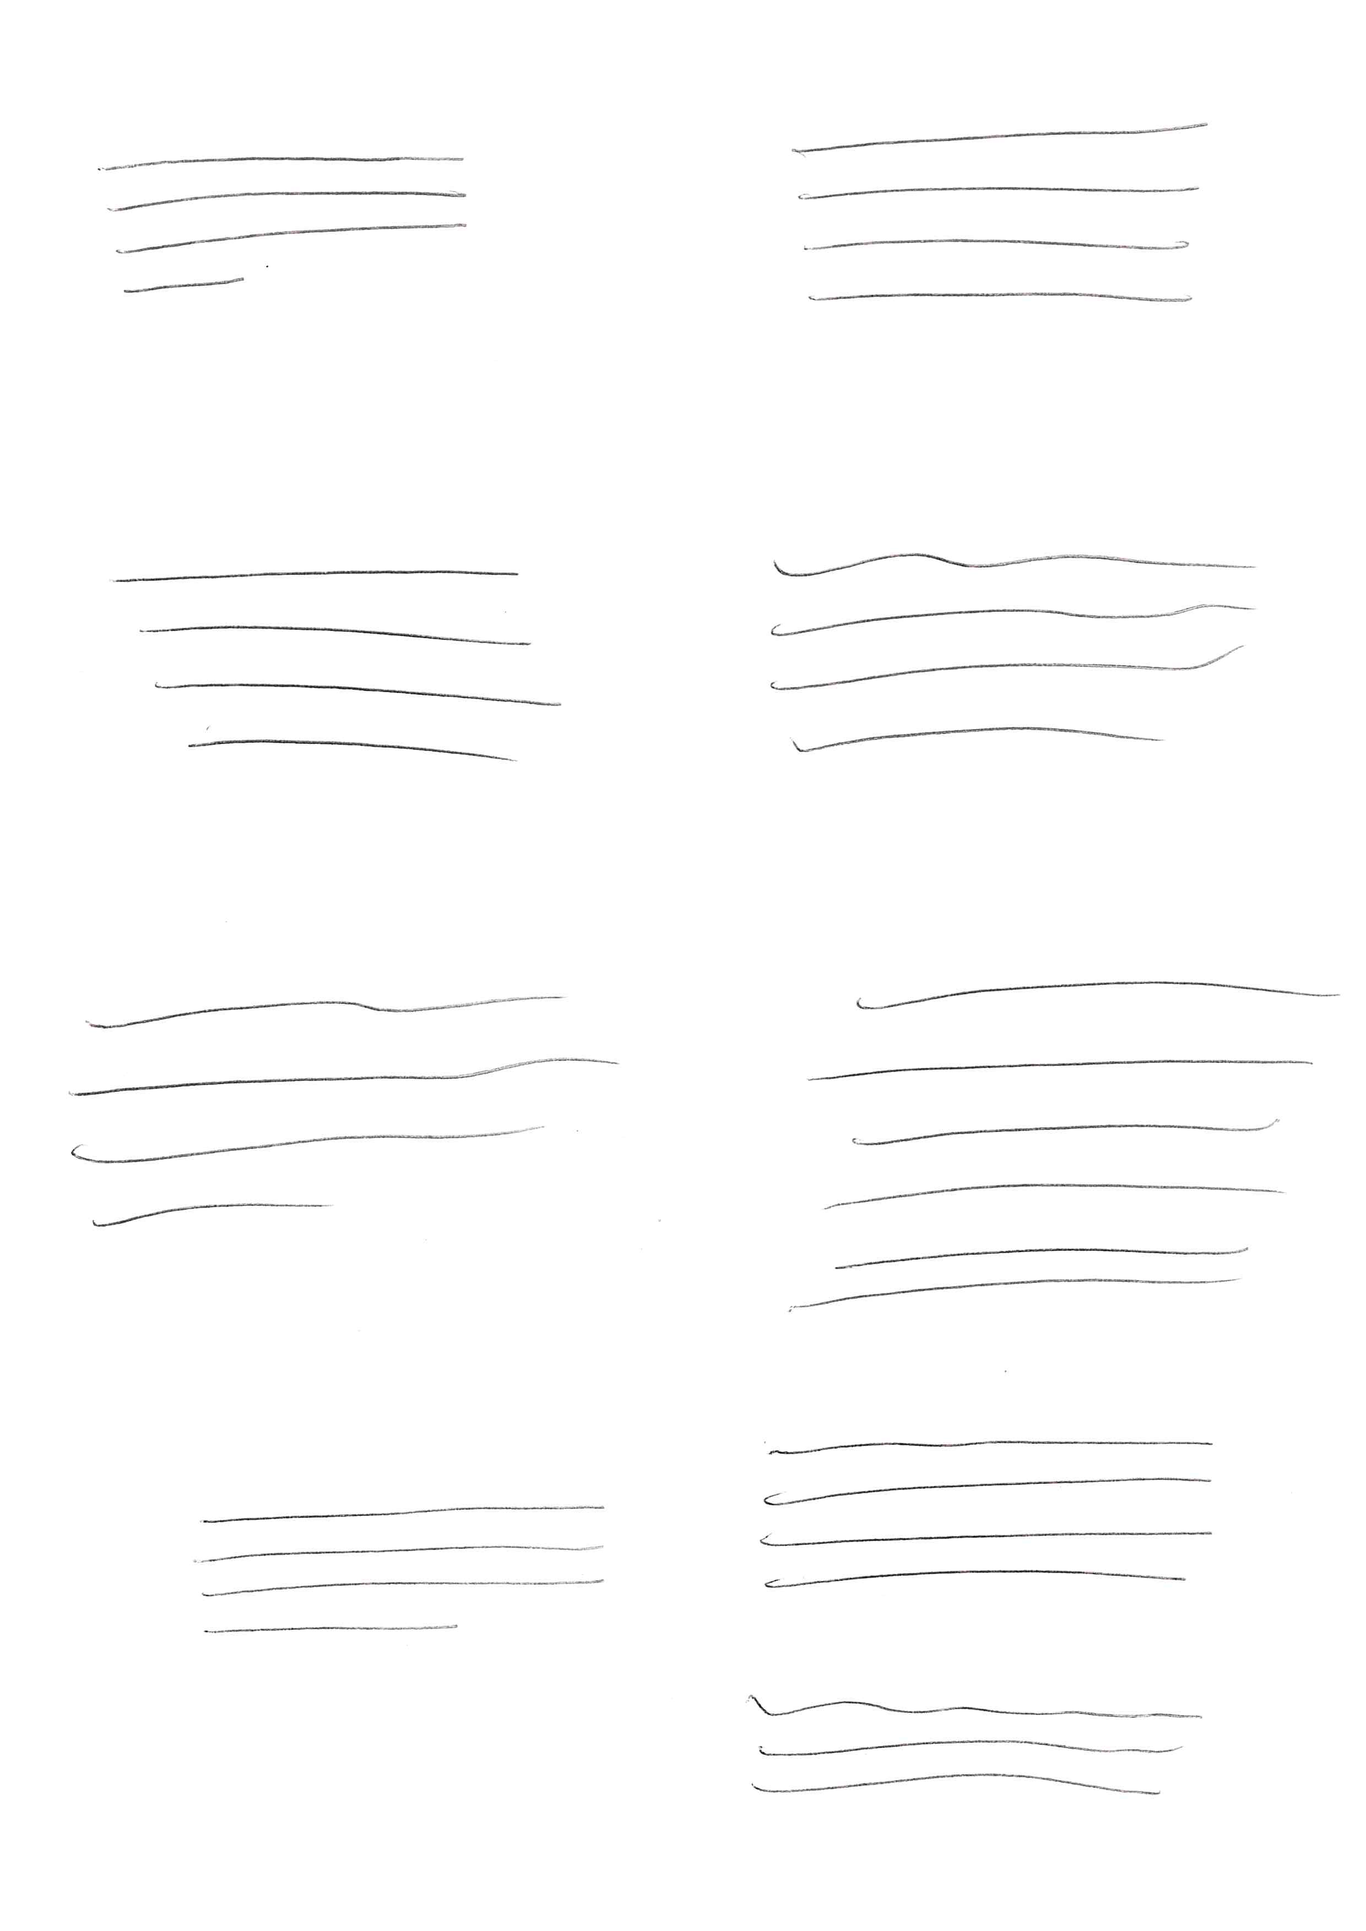Paragraph: (781, 979, 1350, 1317), (62, 991, 619, 1232), (764, 552, 1268, 756), (103, 560, 562, 767), (786, 115, 1211, 308), (757, 1436, 1221, 1592), (102, 129, 478, 297), (194, 1499, 609, 1640), (742, 1687, 1209, 1796)
